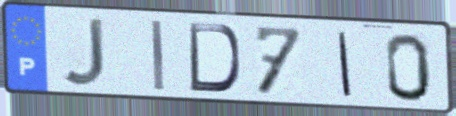0: (382, 31, 434, 104)
7: (251, 24, 304, 97)
D: (186, 21, 243, 95)
I: (335, 29, 355, 99), (149, 17, 167, 93)
J: (59, 16, 108, 89)
